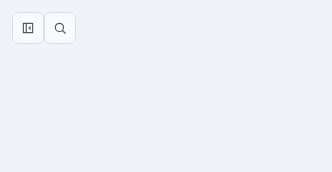
Scenario: says whether it is pressed
Click the button named "Example panel" at (28, 28), box [12,12,44,44]
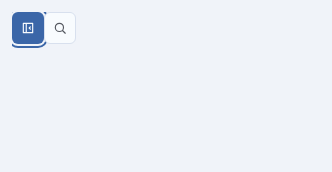
Expected: the button named "Example panel" is pressed
Click the button named "Example panel" at (28, 28), box [12,12,44,44]
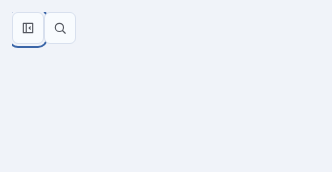
Expected: the button named "Example panel" is not pressed, [12,12,44,44]
